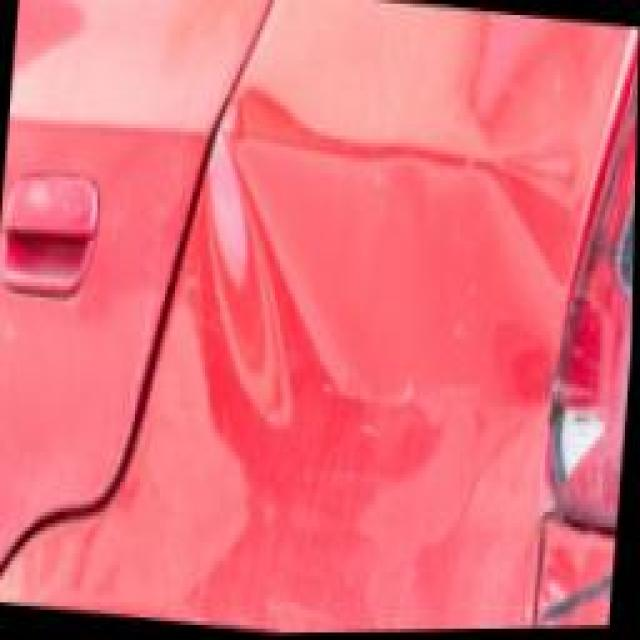Fender: (139, 70, 582, 532)
